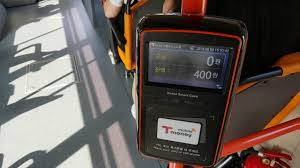terminal: (133, 11, 248, 168)
